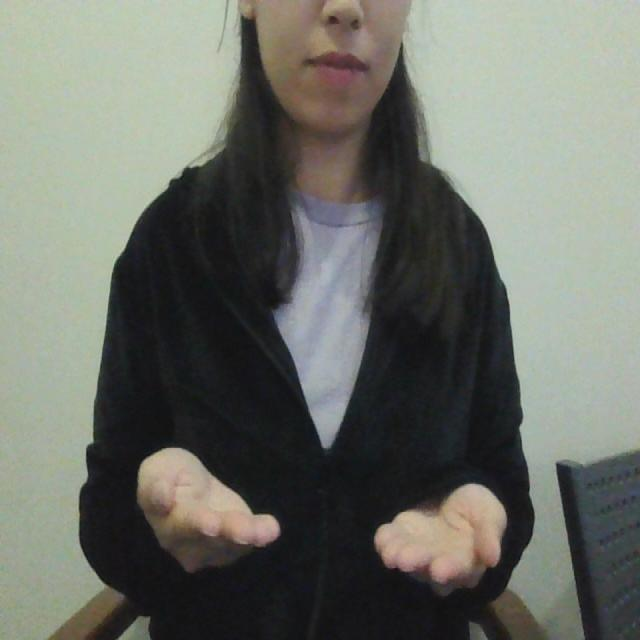Evet: (130, 438, 517, 607)
